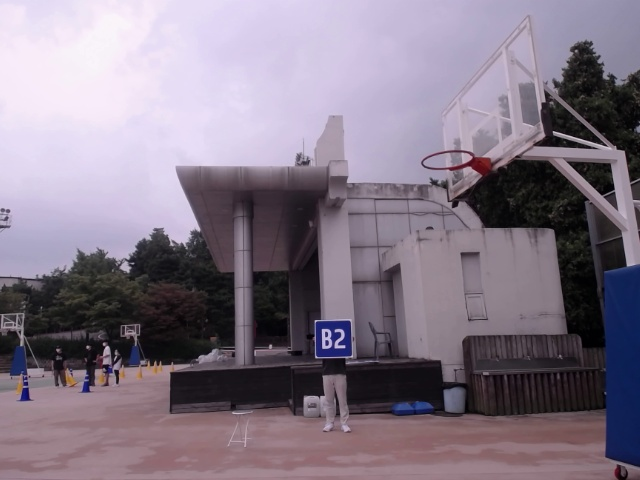delivery_b2: (314, 318, 355, 360)
